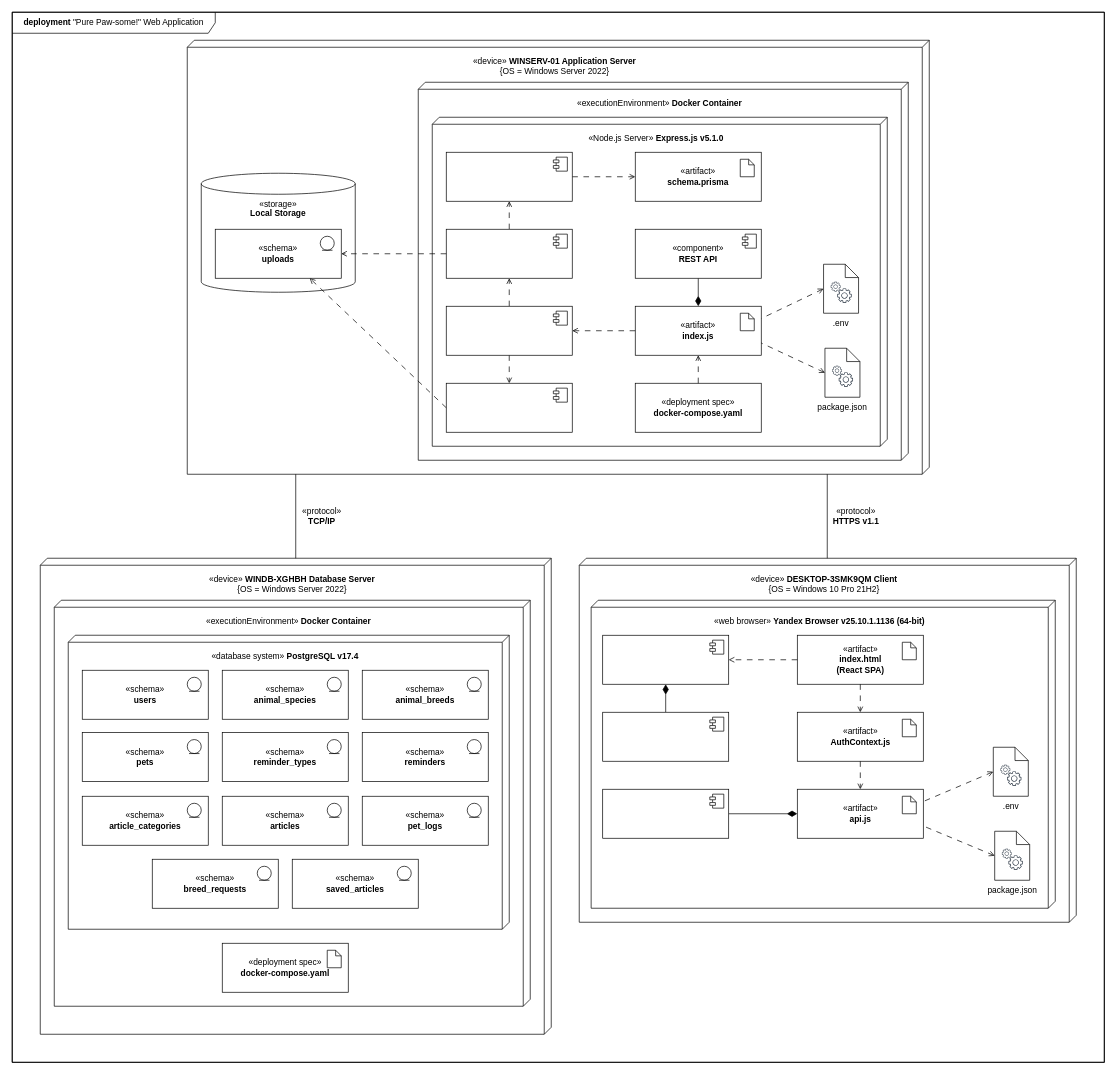
Some shapes in this 1117 by 1075 pixel diagram are drawn without their labels. The shapes that lost their labels are listed below. From the top down, each one's centre as x and y in pixels, then its label:
the point at 509,176: «component» Services
the point at 509,253: «component» Controllers
the point at 509,330: «component» Routes
the point at 509,407: «component» Middleware
the point at 665,659: «component» React Pages
the point at 665,736: «component» React Components
the point at 665,813: «component» Axios Client
